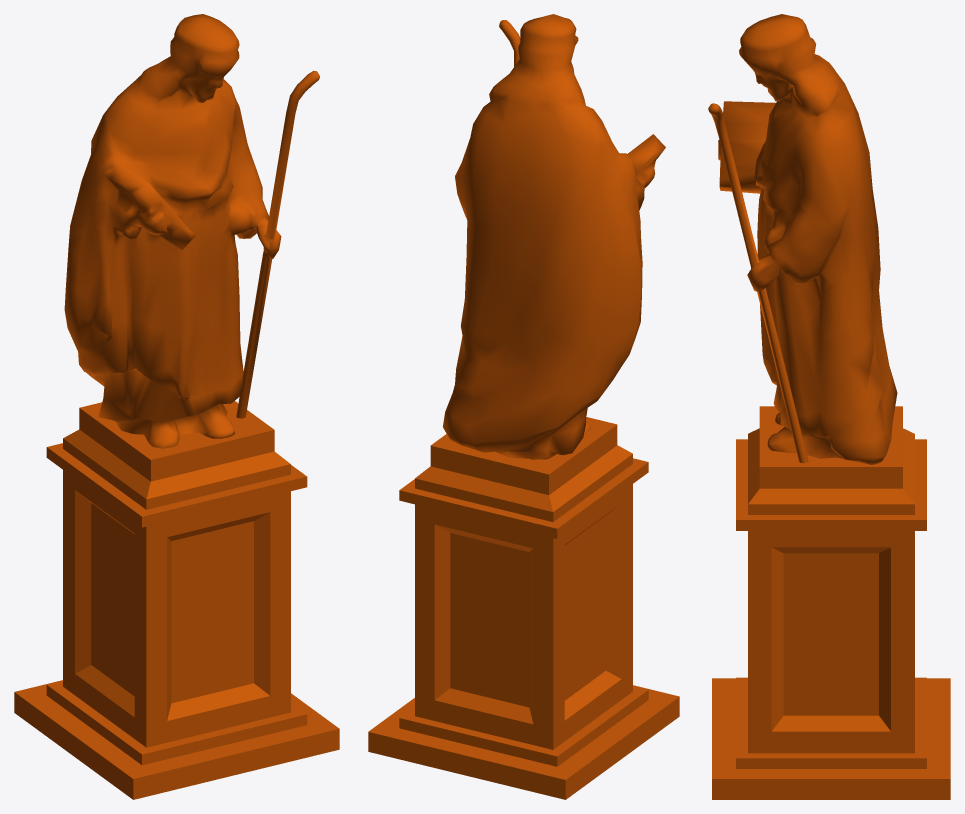
File: StJacob.fbx
3 renders of one model, left to right at view 1: azimuth 30°, elevation 25°; view 2: azimuth 150°, elevation 25°; view 3: azimuth 270°, elevation 25°, orthographic. The views are drawn at different scales.
Visible parts, largest first — view 1: StJacob_LP; view 2: StJacob_LP; view 3: StJacob_LP.
Boxes of the visible parts, <box> form: StJacob_LP: <box>14,14,339,799</box>; StJacob_LP: <box>368,14,679,799</box>; StJacob_LP: <box>708,14,950,799</box>.
Bounding box in the file's own units: 106 × 338 × 102.
